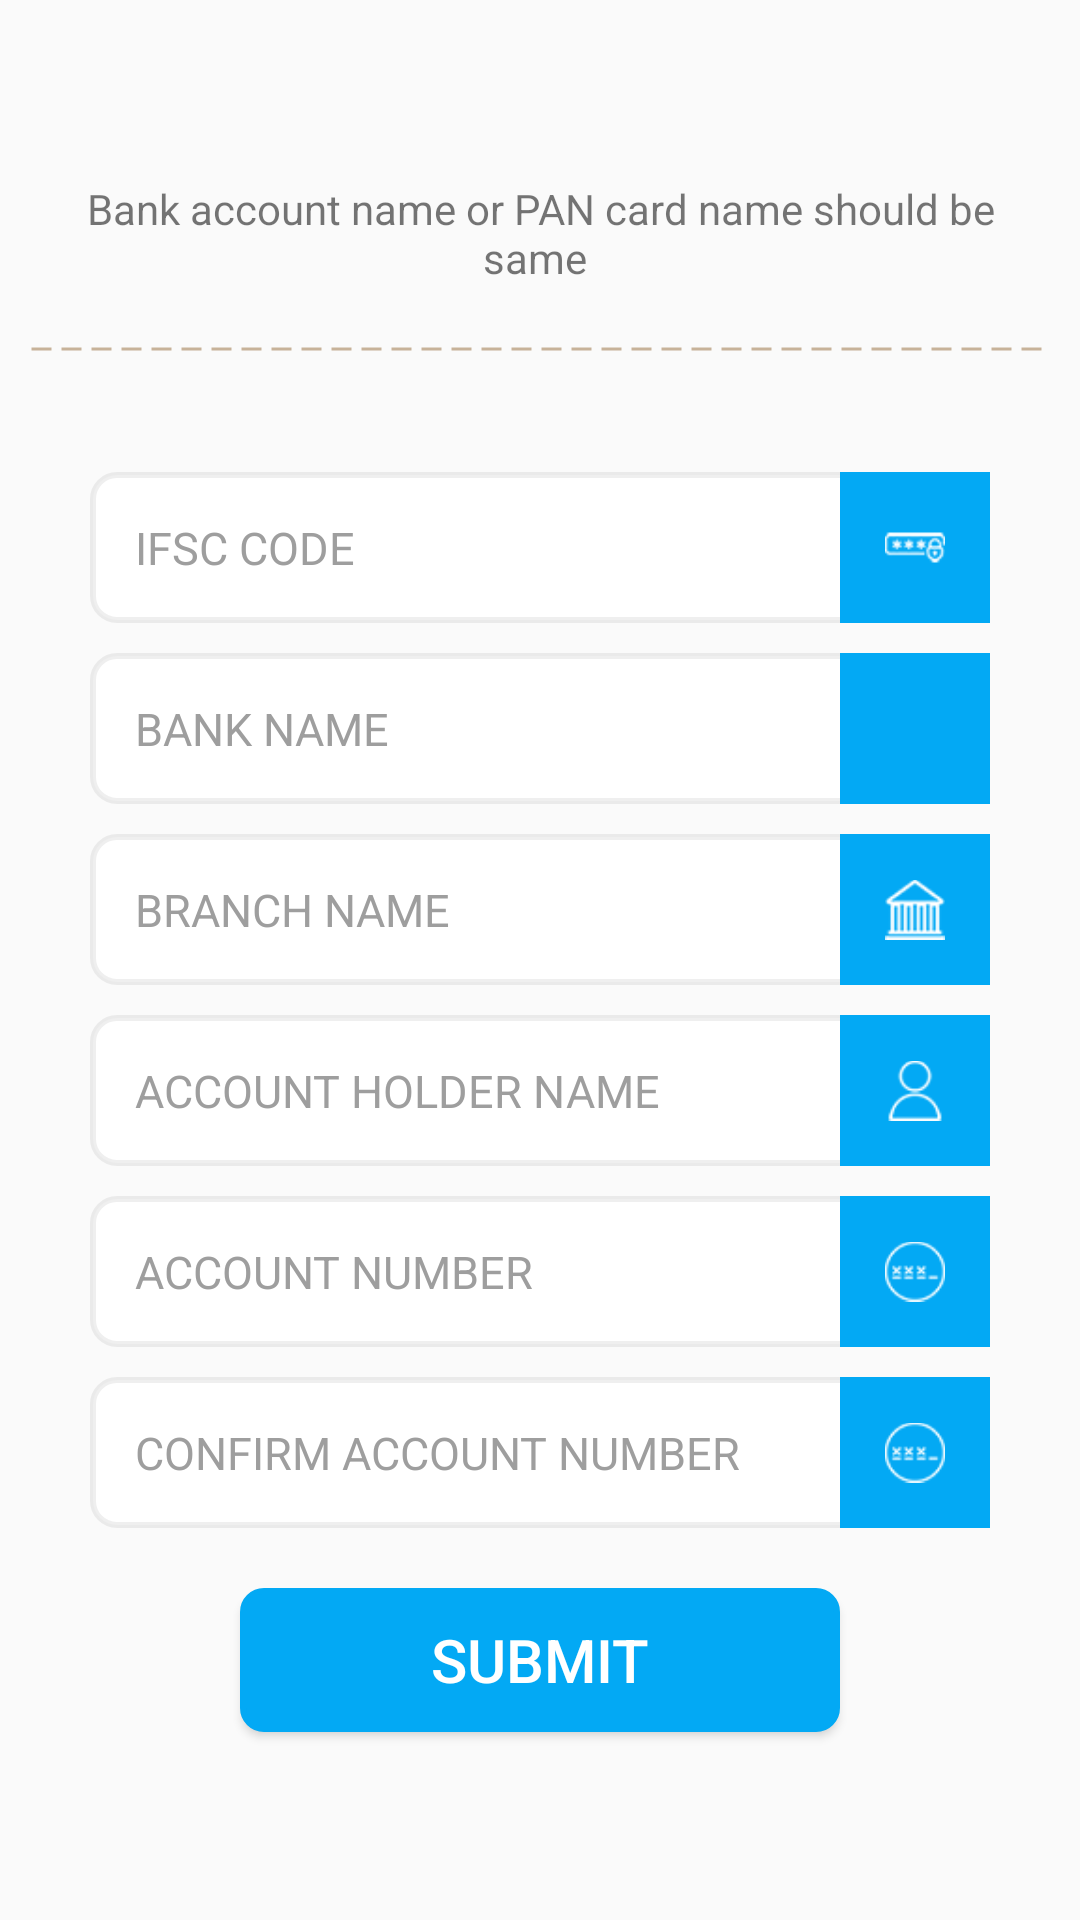

Named icons in this screenshot (1080px×1920px) and their bounding boxes, (x1, y1, x2, y2):
fname: (840, 1015, 990, 1166)
